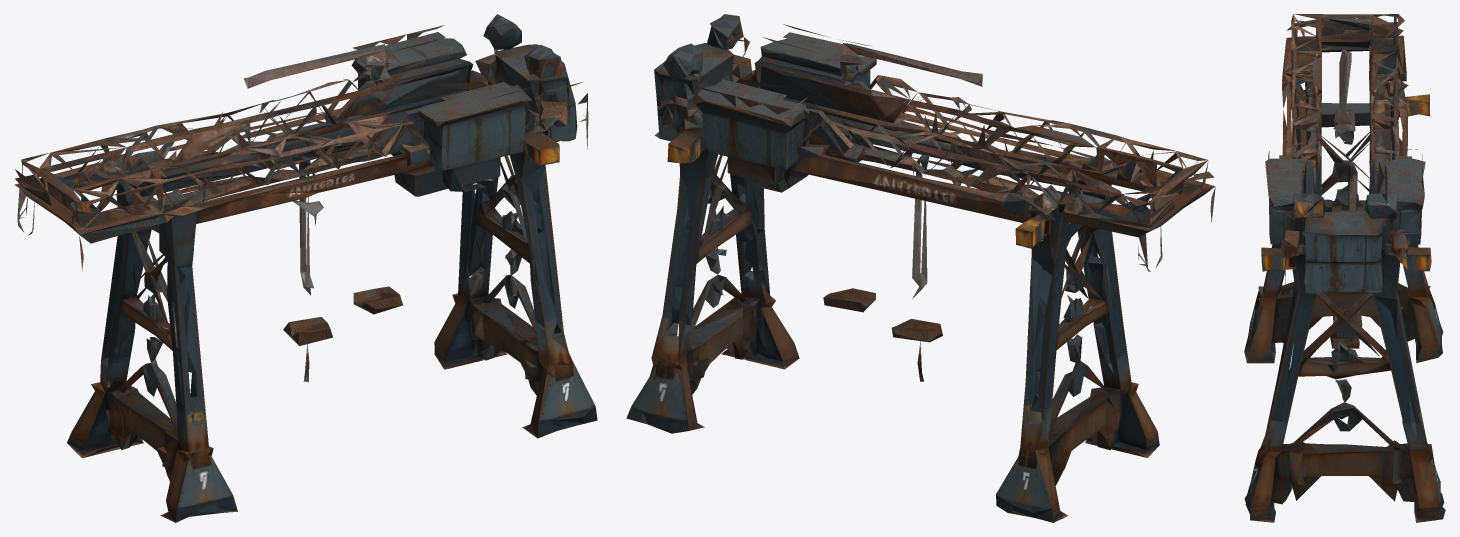
The model's file is giant_crane.glb.
3 views of the same model, side by side, from view 1: azimuth 30°, elevation 25°; view 2: azimuth 150°, elevation 25°; view 3: azimuth 270°, elevation 25° (orthographic). The views are drawn at different scales.
Bounding box in the file's own units: 49.07 × 35 × 18.67.
1 material, 1 textured.
